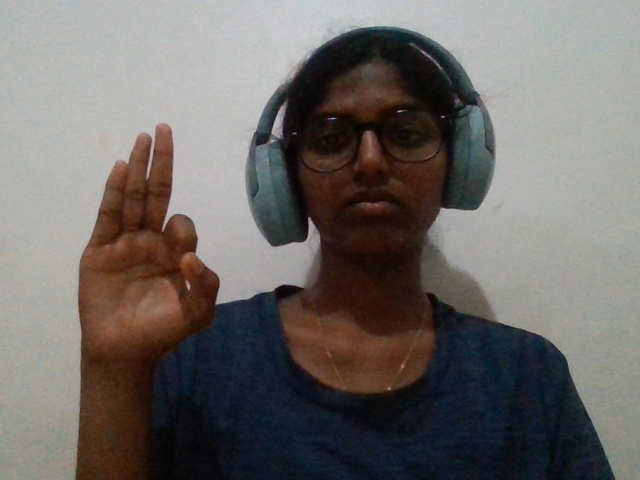F: (61, 110, 265, 442)
